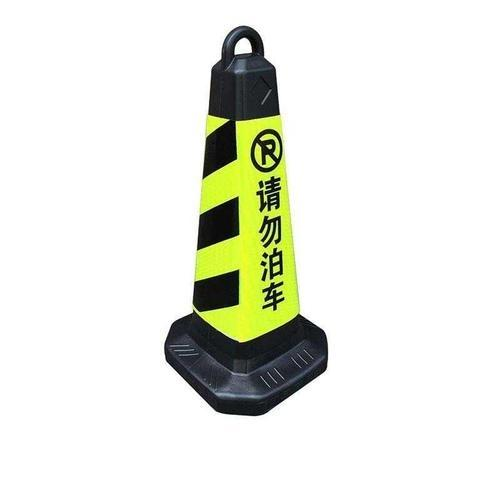cone_barrel: (151, 33, 335, 420)
